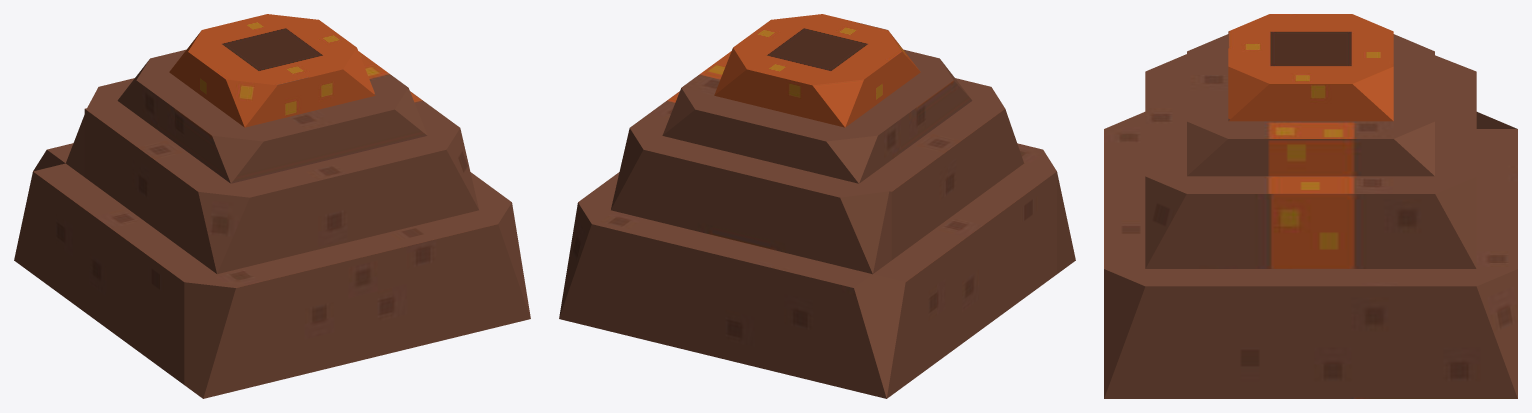
Rendered from VOLCANIC.FBX.
The picture shows the model from 3 angles, left to right: view 1: azimuth 30°, elevation 25°; view 2: azimuth 150°, elevation 25°; view 3: azimuth 270°, elevation 25°; orthographic projection. The views are drawn at different scales.
Visible parts, largest first — view 1: Box001; view 2: Box001; view 3: Box001.
Part boxes in pixels (x1=…): Box001: x1=14, y1=14, x2=530, y2=398; Box001: x1=559, y1=14, x2=1075, y2=398; Box001: x1=1104, y1=14, x2=1517, y2=398.
Size of the model in its own units: 300 by 210 by 300.
